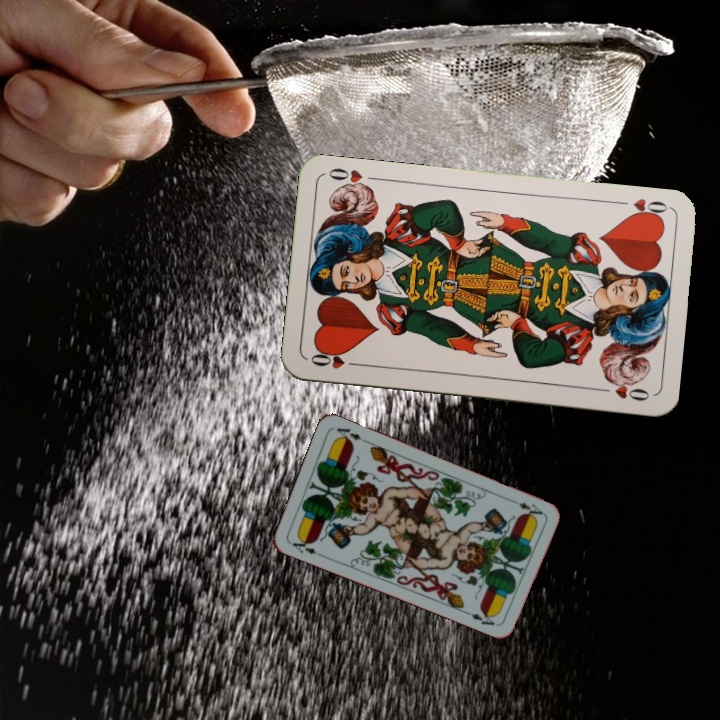EA: (286, 533, 325, 559), (515, 498, 545, 517)
HO: (612, 194, 671, 222), (306, 348, 364, 372)
